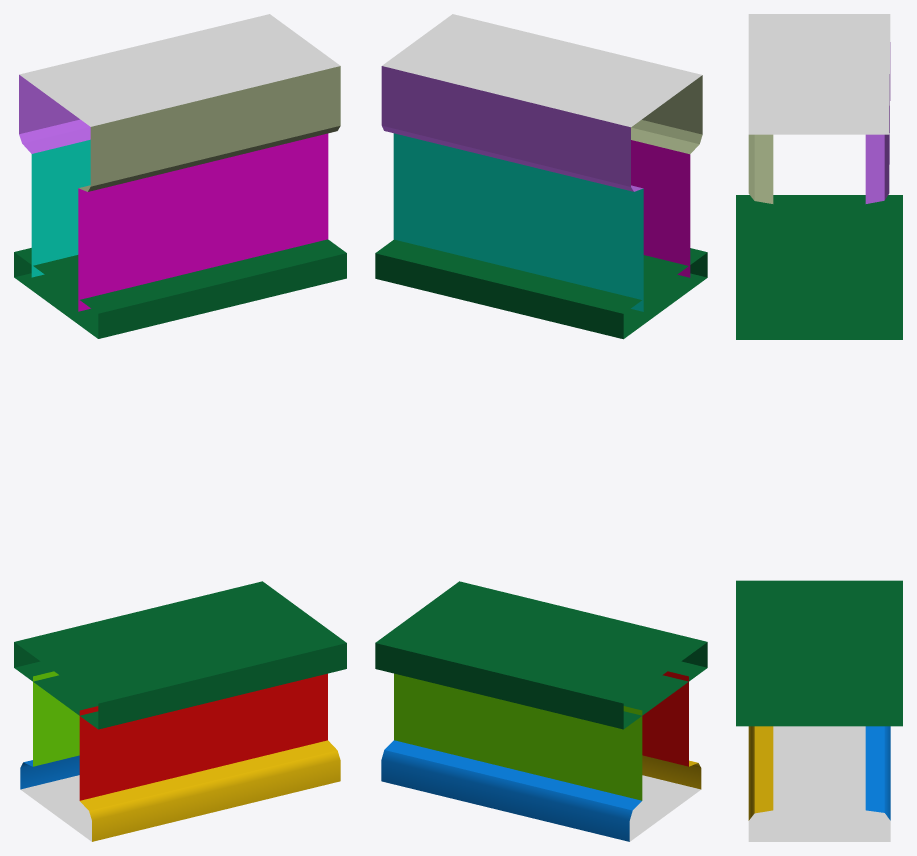
The model's file is Wall_window_middle.fbx.
3 views of the same model, side by side, from view 1: azimuth 30°, elevation 25°; view 2: azimuth 150°, elevation 25°; view 3: azimuth 270°, elevation 25° (orthographic).
Visible parts, largest first — view 1: wall_Window_middle; view 2: wall_Window_middle; view 3: wall_Window_middle.
Boxes of the visible parts, x1=… form: wall_Window_middle: x1=14, y1=14, x2=346, y2=841; wall_Window_middle: x1=375, y1=14, x2=707, y2=841; wall_Window_middle: x1=736, y1=14, x2=902, y2=841.
Size of the model in its own units: 101 by 275 by 58.73.
